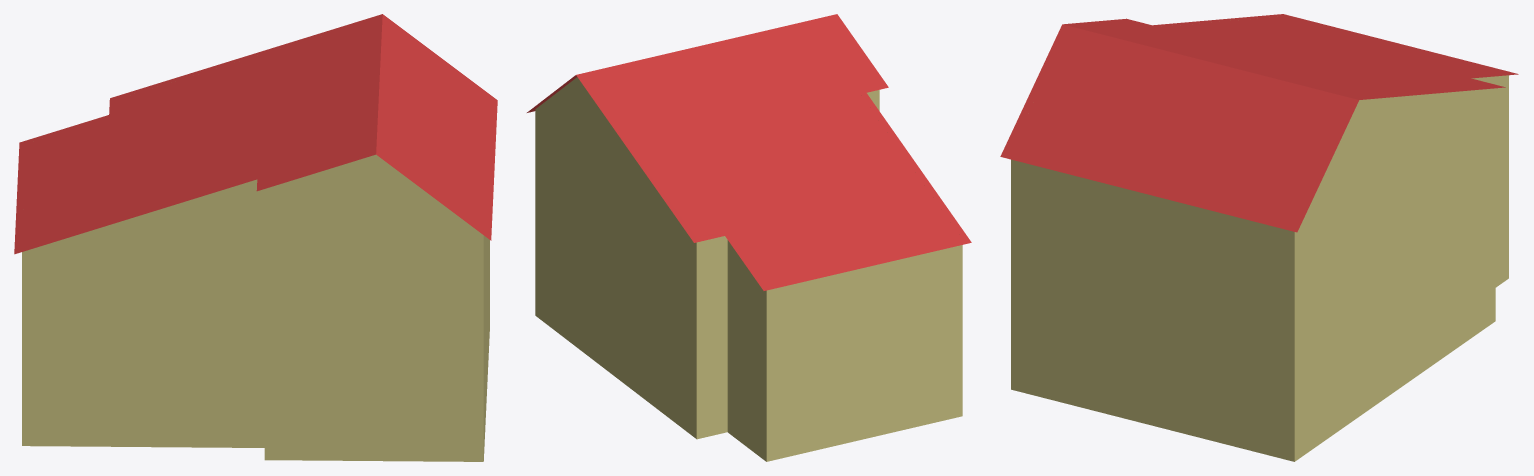
3 renders of one model, left to right at view 1: azimuth 30°, elevation 25°; view 2: azimuth 150°, elevation 25°; view 3: azimuth 270°, elevation 25°, orthographic. The views are drawn at different scales.
Size of the model in its own units: 18.62 by 16.38 by 11.24.
